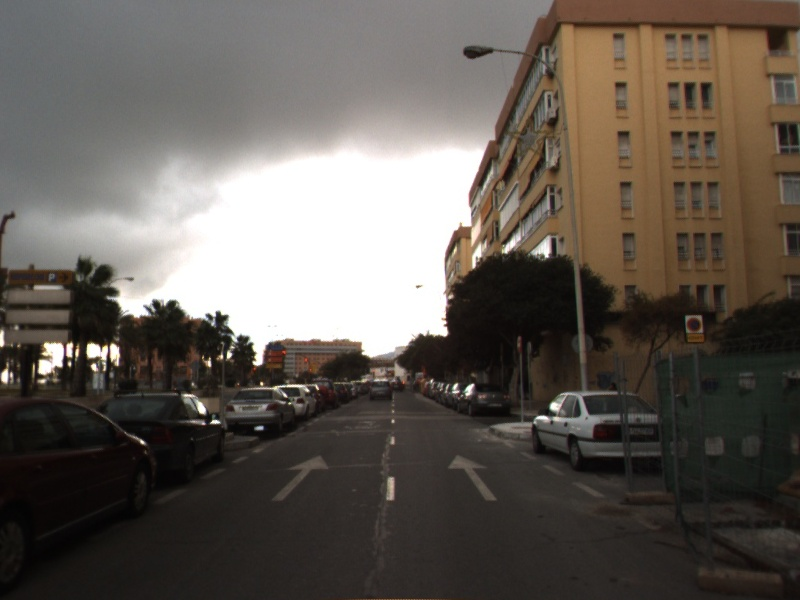STRAIGHT: (270, 454, 330, 502), (447, 453, 498, 502)
